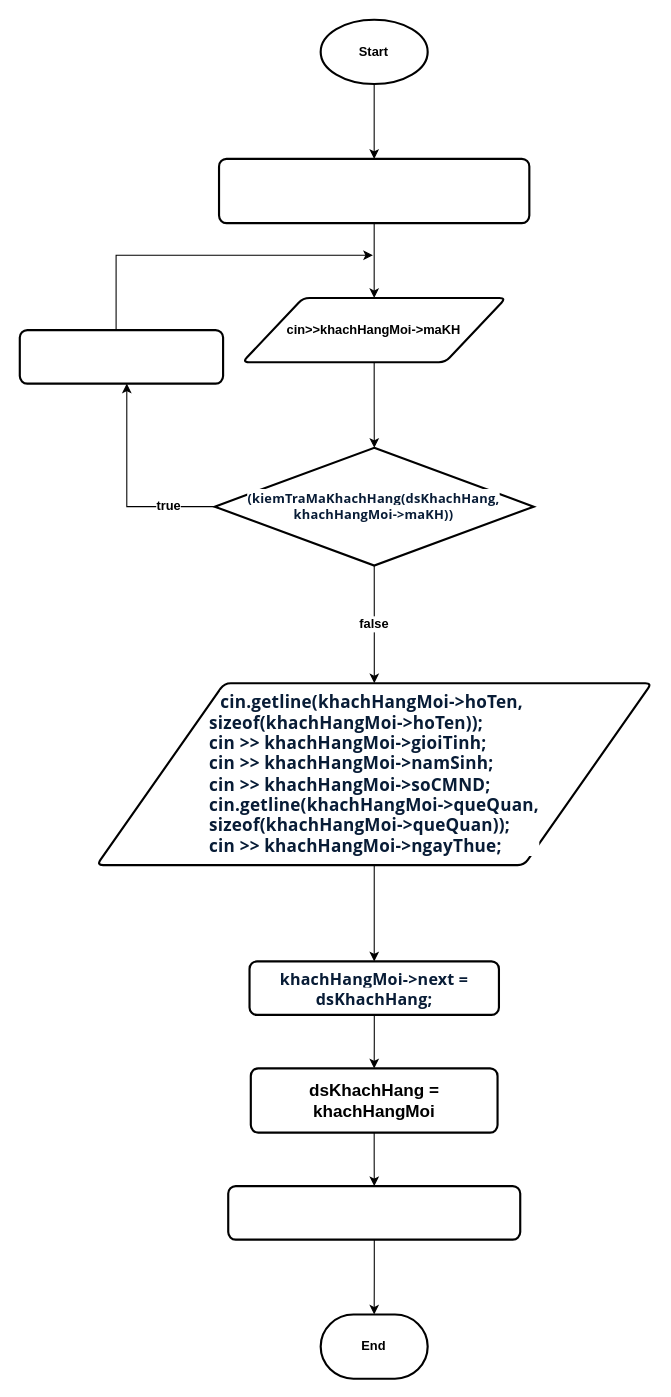
Image size: 671x1397. Some labels were removed from this diagram. Here are the shapes that lost their labels. From the top down, the box of each, then its label:
(217, 157, 530, 224): khachHang *khachHangMoi = new khachHang;
(18, 328, 224, 384): cout << "\nVui long nhap lai da co ma khach hang nay!";
(227, 1184, 521, 1240): cout << "\nThem thanh cong." << endl;
